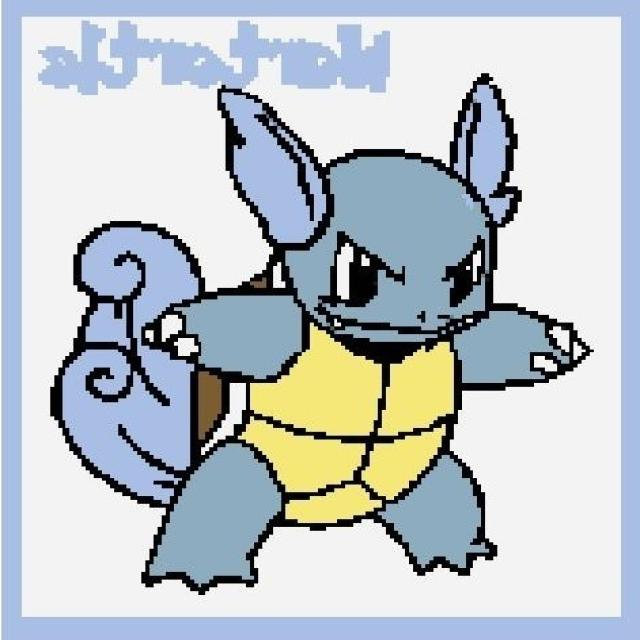Wartortle: (0, 77, 627, 598)
